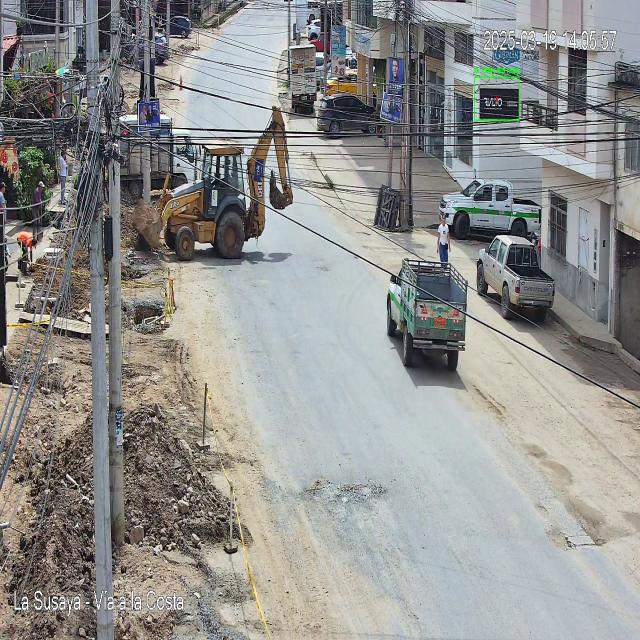CMT: (386, 262, 469, 372), (476, 233, 556, 328)
TRUCK: (134, 142, 273, 266)
